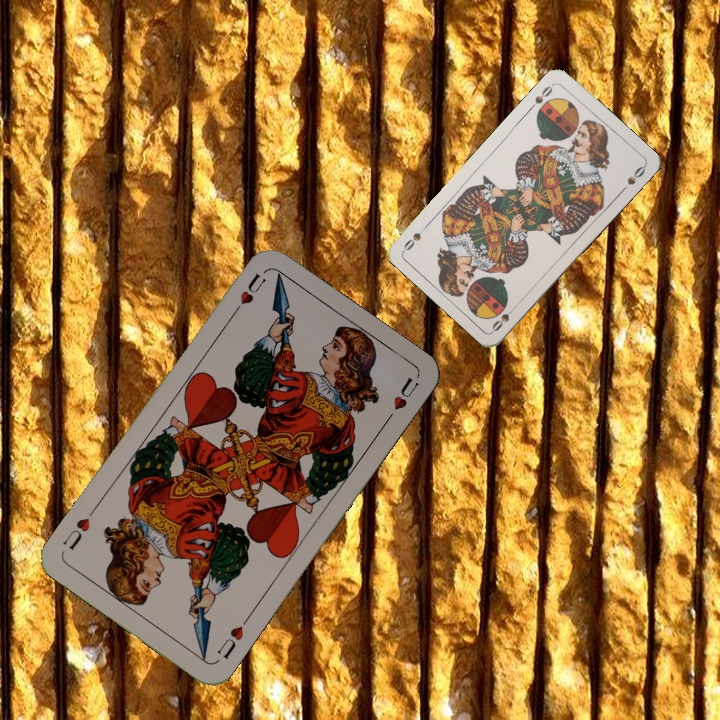HU: (227, 269, 269, 319), (213, 612, 252, 662)
SO: (487, 301, 520, 334), (526, 79, 557, 113)
